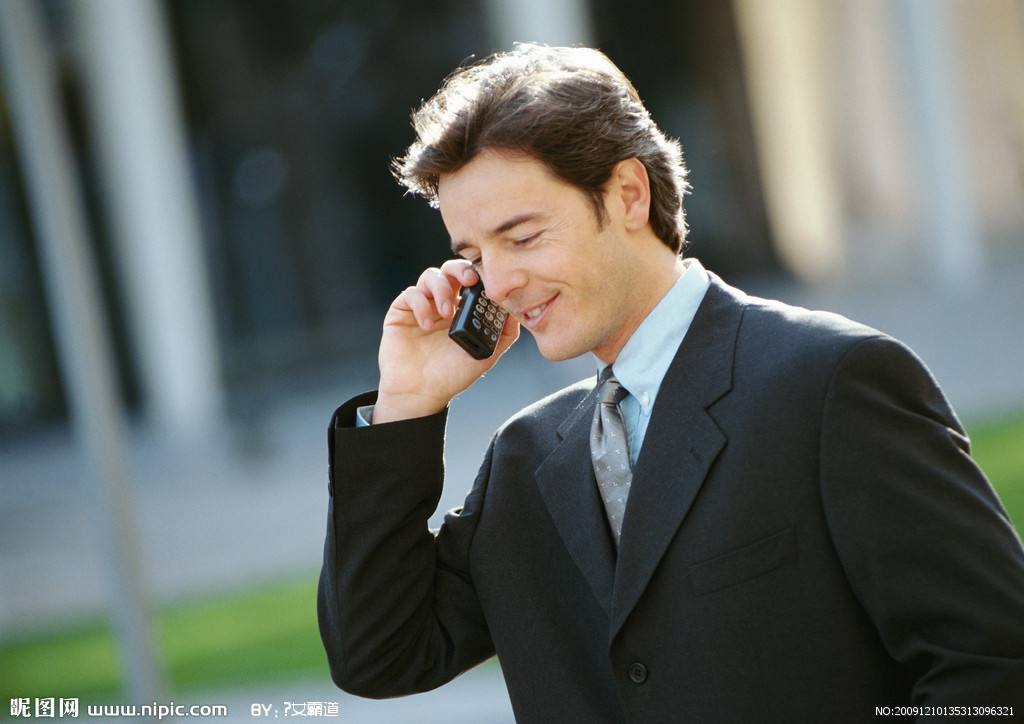calling: (377, 255, 525, 396)
